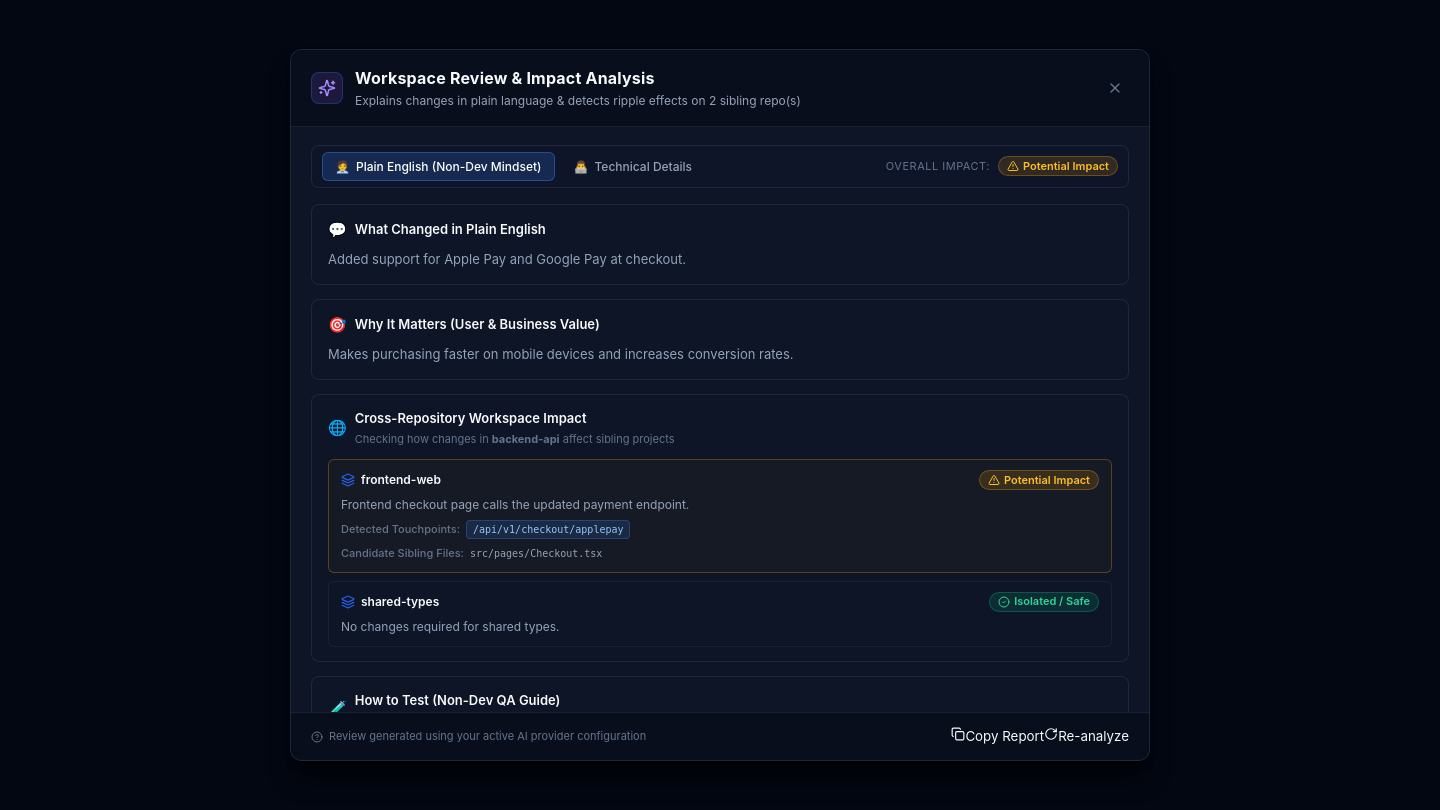
Test: WorkspaceReviewModal Component › copies review markdown to clipboard when Copy Report button is clicked
Click the button with test id "copy-review-btn" at (998, 735), box [951, 727, 1044, 744]
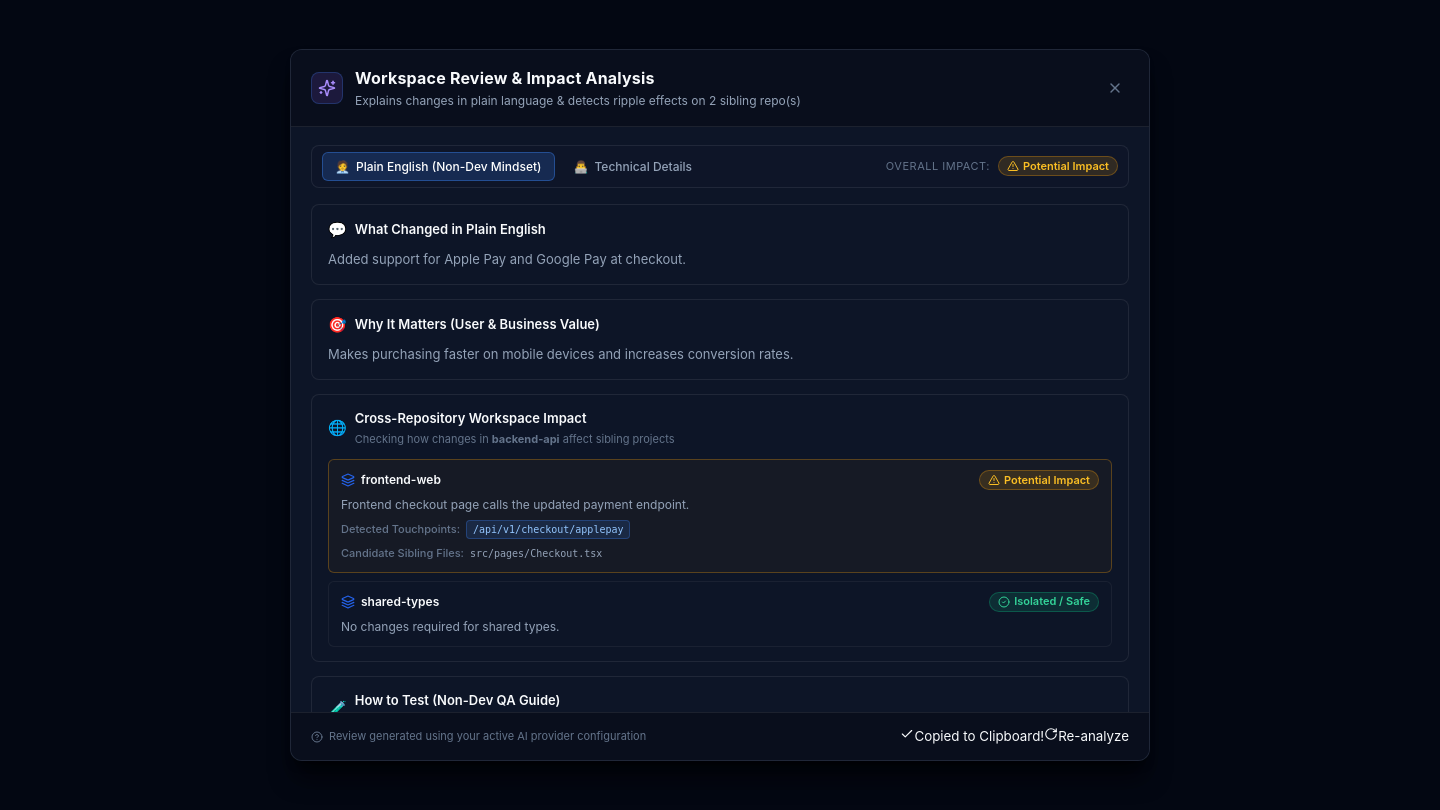
Check: the text "Copied to Clipboard!" is shown, box [914, 728, 1044, 744]
